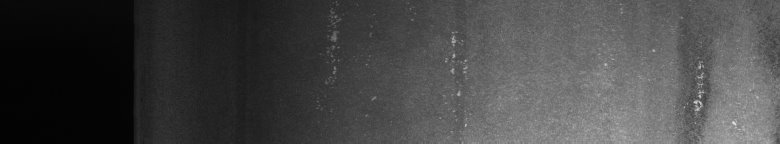hc: (653, 50, 736, 125)
